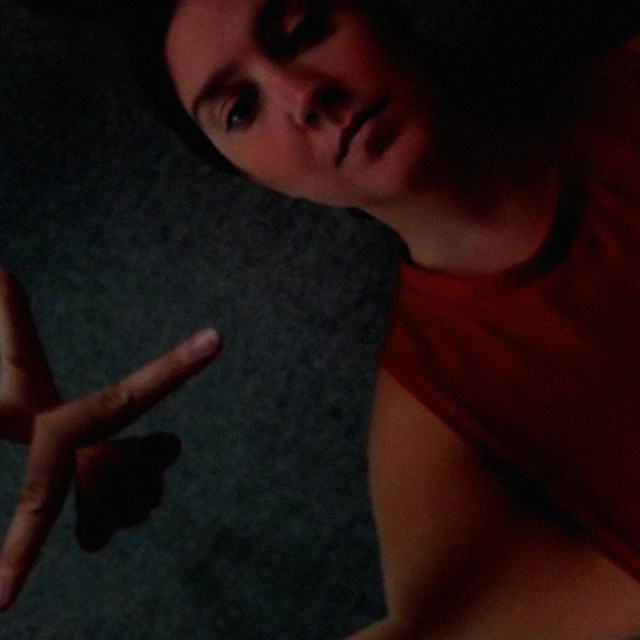Scissors: (0, 170, 284, 514)
